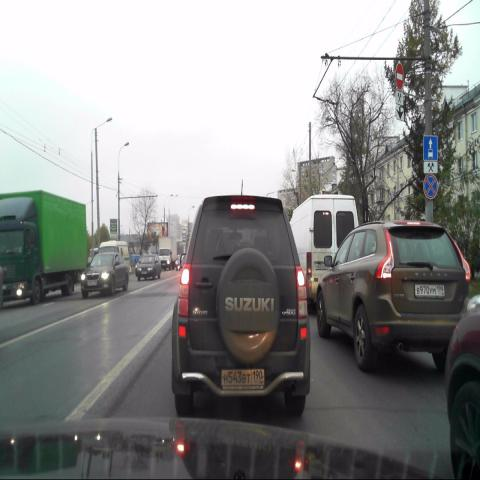5_14: (423, 135, 438, 159)
